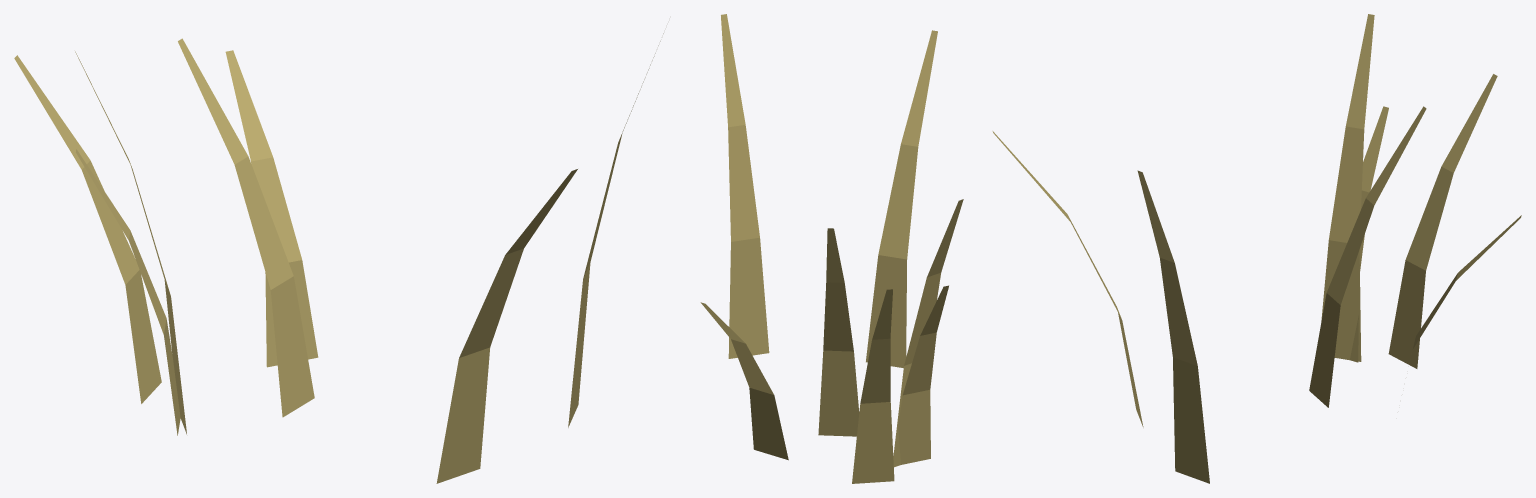
File: andes_ichu_lod1.glb
3 renders of one model, left to right at view 1: azimuth 30°, elevation 25°; view 2: azimuth 150°, elevation 25°; view 3: azimuth 270°, elevation 25°, orthographic. The views are drawn at different scales.
Visible parts, largest first — view 1: GEO-Andes_ichu_LOD1; view 2: GEO-Andes_ichu_LOD1; view 3: GEO-Andes_ichu_LOD1.
Boxes of the visible parts, bbox=[...] form: GEO-Andes_ichu_LOD1: bbox=[14, 33, 663, 483]; GEO-Andes_ichu_LOD1: bbox=[700, 14, 963, 483]; GEO-Andes_ichu_LOD1: bbox=[992, 14, 1521, 483].
Bounding box in the file's own units: 0.8414 × 0.7183 × 1.04.
